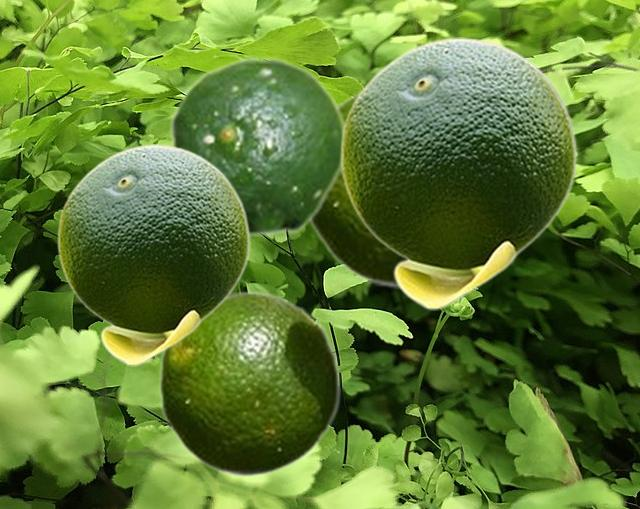calamansi: (340, 37, 576, 309), (57, 144, 249, 365), (157, 290, 341, 476), (169, 56, 346, 237), (308, 85, 400, 287)
